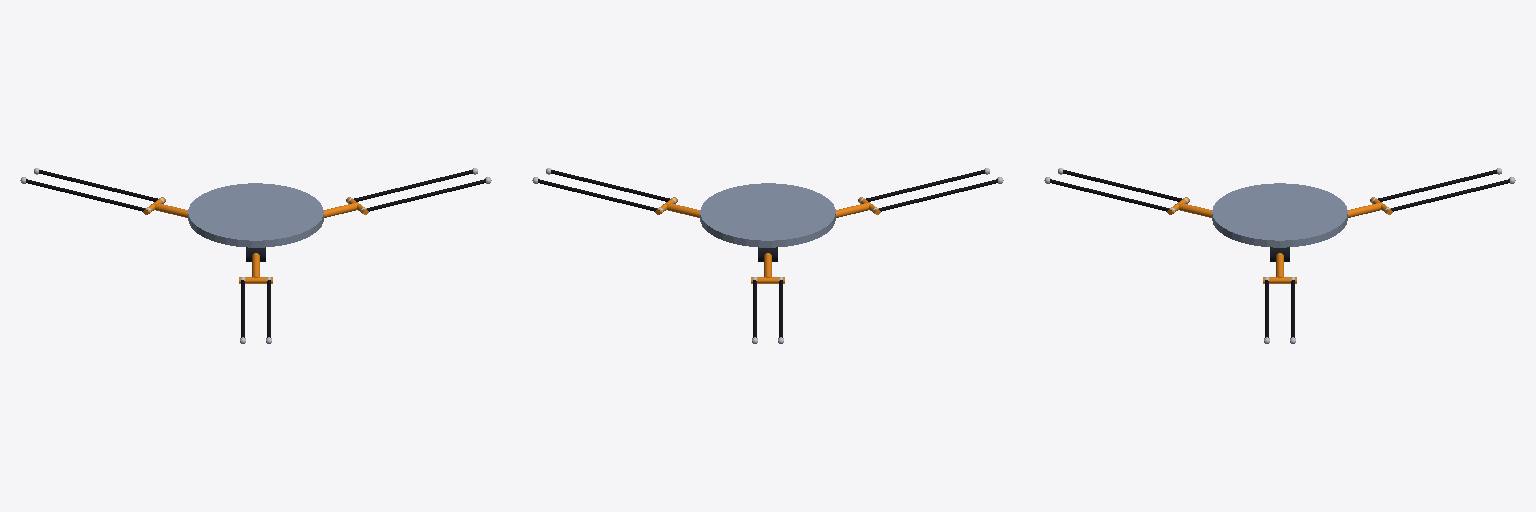
The robot description file, URDF, robot "delta_robot":
<?xml version="1.0"?>
<!-- generated by deltarobot.urdf — R=0.08 r=0.03 L=0.1 l=0.22 w=0.04 motor=rc_servo_mg996r tool=suction_20 -->
<robot name="delta_robot">
  <material name="frame"><color rgba="0.55 0.6 0.68 1"/></material>
  <material name="motor"><color rgba="0.15 0.17 0.2 1"/></material>
  <material name="arm"><color rgba="0.9 0.55 0.15 1"/></material>
  <material name="rod"><color rgba="0.12 0.12 0.14 1"/></material>
  <material name="joint"><color rgba="0.75 0.78 0.82 1"/></material>
  <material name="plate"><color rgba="0.25 0.55 0.9 1"/></material>
  <material name="tool"><color rgba="0.2 0.75 0.5 1"/></material>
  <link name="base_link">
    <visual>
      <origin xyz="0 0 0.026" rpy="0 0 0"/>
      <geometry><cylinder radius="0.1044" length="0.012"/></geometry>
      <material name="frame"/>
    </visual>
    <visual>
      <origin xyz="0.08 0 0" rpy="1.570796 0 0"/>
      <geometry><cylinder radius="0.0144" length="0.03"/></geometry>
      <material name="motor"/>
    </visual>
    <visual>
      <origin xyz="-0.04 0.069282 0" rpy="1.570796 0 2.094395"/>
      <geometry><cylinder radius="0.0144" length="0.03"/></geometry>
      <material name="motor"/>
    </visual>
    <visual>
      <origin xyz="-0.04 -0.069282 0" rpy="1.570796 0 4.18879"/>
      <geometry><cylinder radius="0.0144" length="0.03"/></geometry>
      <material name="motor"/>
    </visual>
    <inertial>
      <origin xyz="0 0 0.02" rpy="0 0 0"/>
      <mass value="0.665"/>
      <inertia ixx="0.01" ixy="0" ixz="0" iyy="0.01" iyz="0" izz="0.02"/>
    </inertial>
  </link>
  <joint name="motor1_joint" type="revolute">
    <parent link="base_link"/>
    <child link="upper_arm1"/>
    <origin xyz="0.08 0 0" rpy="0 0 0"/>
    <axis xyz="0 1 0"/>
    <limit lower="-0.7" upper="1.5" effort="1.08" velocity="6"/>
  </joint>
  <link name="upper_arm1">
    <visual>
      <origin xyz="0.05 0 0" rpy="0 1.570796 0"/>
      <geometry><cylinder radius="0.006" length="0.1"/></geometry>
      <material name="arm"/>
    </visual>
    <visual>
      <origin xyz="0.1 0 0" rpy="1.570796 0 0"/>
      <geometry><cylinder radius="0.0048" length="0.052"/></geometry>
      <material name="arm"/>
    </visual>
    <inertial>
      <origin xyz="0.05 0 0" rpy="0 0 0"/>
      <mass value="0.04572"/>
      <inertia ixx="0.00001" ixy="0" ixz="0" iyy="0.000027" iyz="0" izz="0.000027"/>
    </inertial>
  </link>
  <joint name="elbow1a_pitch" type="revolute">
    <parent link="upper_arm1"/>
    <child link="elbow1a_link"/>
    <origin xyz="0.1 0.02 0" rpy="0 0 0"/>
    <axis xyz="0 1 0"/>
    <limit lower="-3.141593" upper="3.141593" effort="0" velocity="0"/>
  </joint>
  <link name="elbow1a_link"/>
  <joint name="elbow1a_yaw" type="revolute">
    <parent link="elbow1a_link"/>
    <child link="forearm1a"/>
    <origin xyz="0 0 0" rpy="0 0 0"/>
    <axis xyz="0 0 1"/>
    <limit lower="-1.570796" upper="1.570796" effort="0" velocity="0"/>
  </joint>
  <link name="forearm1a">
    <visual>
      <origin xyz="0.11 0 0" rpy="0 1.570796 0"/>
      <geometry><cylinder radius="0.003" length="0.22"/></geometry>
      <material name="rod"/>
    </visual>
    <visual>
      <origin xyz="0 0 0" rpy="0 0 0"/>
      <geometry><sphere radius="0.0054"/></geometry>
      <material name="joint"/>
    </visual>
    <visual>
      <origin xyz="0.22 0 0" rpy="0 0 0"/>
      <geometry><sphere radius="0.0054"/></geometry>
      <material name="joint"/>
    </visual>
    <inertial>
      <origin xyz="0.11 0 0" rpy="0 0 0"/>
      <mass value="0.02846"/>
      <inertia ixx="0.000001" ixy="0" ixz="0" iyy="0.000115" iyz="0" izz="0.000115"/>
    </inertial>
  </link>
  <joint name="elbow1b_pitch" type="revolute">
    <parent link="upper_arm1"/>
    <child link="elbow1b_link"/>
    <origin xyz="0.1 -0.02 0" rpy="0 0 0"/>
    <axis xyz="0 1 0"/>
    <limit lower="-3.141593" upper="3.141593" effort="0" velocity="0"/>
    <mimic joint="elbow1a_pitch" multiplier="1" offset="0"/>
  </joint>
  <link name="elbow1b_link"/>
  <joint name="elbow1b_yaw" type="revolute">
    <parent link="elbow1b_link"/>
    <child link="forearm1b"/>
    <origin xyz="0 0 0" rpy="0 0 0"/>
    <axis xyz="0 0 1"/>
    <limit lower="-1.570796" upper="1.570796" effort="0" velocity="0"/>
    <mimic joint="elbow1a_yaw" multiplier="1" offset="0"/>
  </joint>
  <link name="forearm1b">
    <visual>
      <origin xyz="0.11 0 0" rpy="0 1.570796 0"/>
      <geometry><cylinder radius="0.003" length="0.22"/></geometry>
      <material name="rod"/>
    </visual>
    <visual>
      <origin xyz="0 0 0" rpy="0 0 0"/>
      <geometry><sphere radius="0.0054"/></geometry>
      <material name="joint"/>
    </visual>
    <visual>
      <origin xyz="0.22 0 0" rpy="0 0 0"/>
      <geometry><sphere radius="0.0054"/></geometry>
      <material name="joint"/>
    </visual>
    <inertial>
      <origin xyz="0.11 0 0" rpy="0 0 0"/>
      <mass value="0.02846"/>
      <inertia ixx="0.000001" ixy="0" ixz="0" iyy="0.000115" iyz="0" izz="0.000115"/>
    </inertial>
  </link>
  <joint name="motor2_joint" type="revolute">
    <parent link="base_link"/>
    <child link="upper_arm2"/>
    <origin xyz="-0.04 0.069282 0" rpy="0 0 2.094395"/>
    <axis xyz="0 1 0"/>
    <limit lower="-0.7" upper="1.5" effort="1.08" velocity="6"/>
  </joint>
  <link name="upper_arm2">
    <visual>
      <origin xyz="0.05 0 0" rpy="0 1.570796 0"/>
      <geometry><cylinder radius="0.006" length="0.1"/></geometry>
      <material name="arm"/>
    </visual>
    <visual>
      <origin xyz="0.1 0 0" rpy="1.570796 0 0"/>
      <geometry><cylinder radius="0.0048" length="0.052"/></geometry>
      <material name="arm"/>
    </visual>
    <inertial>
      <origin xyz="0.05 0 0" rpy="0 0 0"/>
      <mass value="0.04572"/>
      <inertia ixx="0.00001" ixy="0" ixz="0" iyy="0.000027" iyz="0" izz="0.000027"/>
    </inertial>
  </link>
  <joint name="elbow2a_pitch" type="revolute">
    <parent link="upper_arm2"/>
    <child link="elbow2a_link"/>
    <origin xyz="0.1 0.02 0" rpy="0 0 0"/>
    <axis xyz="0 1 0"/>
    <limit lower="-3.141593" upper="3.141593" effort="0" velocity="0"/>
  </joint>
  <link name="elbow2a_link"/>
  <joint name="elbow2a_yaw" type="revolute">
    <parent link="elbow2a_link"/>
    <child link="forearm2a"/>
    <origin xyz="0 0 0" rpy="0 0 0"/>
    <axis xyz="0 0 1"/>
    <limit lower="-1.570796" upper="1.570796" effort="0" velocity="0"/>
  </joint>
  <link name="forearm2a">
    <visual>
      <origin xyz="0.11 0 0" rpy="0 1.570796 0"/>
      <geometry><cylinder radius="0.003" length="0.22"/></geometry>
      <material name="rod"/>
    </visual>
    <visual>
      <origin xyz="0 0 0" rpy="0 0 0"/>
      <geometry><sphere radius="0.0054"/></geometry>
      <material name="joint"/>
    </visual>
    <visual>
      <origin xyz="0.22 0 0" rpy="0 0 0"/>
      <geometry><sphere radius="0.0054"/></geometry>
      <material name="joint"/>
    </visual>
    <inertial>
      <origin xyz="0.11 0 0" rpy="0 0 0"/>
      <mass value="0.02846"/>
      <inertia ixx="0.000001" ixy="0" ixz="0" iyy="0.000115" iyz="0" izz="0.000115"/>
    </inertial>
  </link>
  <joint name="elbow2b_pitch" type="revolute">
    <parent link="upper_arm2"/>
    <child link="elbow2b_link"/>
    <origin xyz="0.1 -0.02 0" rpy="0 0 0"/>
    <axis xyz="0 1 0"/>
    <limit lower="-3.141593" upper="3.141593" effort="0" velocity="0"/>
    <mimic joint="elbow2a_pitch" multiplier="1" offset="0"/>
  </joint>
  <link name="elbow2b_link"/>
  <joint name="elbow2b_yaw" type="revolute">
    <parent link="elbow2b_link"/>
    <child link="forearm2b"/>
    <origin xyz="0 0 0" rpy="0 0 0"/>
    <axis xyz="0 0 1"/>
    <limit lower="-1.570796" upper="1.570796" effort="0" velocity="0"/>
    <mimic joint="elbow2a_yaw" multiplier="1" offset="0"/>
  </joint>
  <link name="forearm2b">
    <visual>
      <origin xyz="0.11 0 0" rpy="0 1.570796 0"/>
      <geometry><cylinder radius="0.003" length="0.22"/></geometry>
      <material name="rod"/>
    </visual>
    <visual>
      <origin xyz="0 0 0" rpy="0 0 0"/>
      <geometry><sphere radius="0.0054"/></geometry>
      <material name="joint"/>
    </visual>
    <visual>
      <origin xyz="0.22 0 0" rpy="0 0 0"/>
      <geometry><sphere radius="0.0054"/></geometry>
      <material name="joint"/>
    </visual>
    <inertial>
      <origin xyz="0.11 0 0" rpy="0 0 0"/>
      <mass value="0.02846"/>
      <inertia ixx="0.000001" ixy="0" ixz="0" iyy="0.000115" iyz="0" izz="0.000115"/>
    </inertial>
  </link>
  <joint name="motor3_joint" type="revolute">
    <parent link="base_link"/>
    <child link="upper_arm3"/>
    <origin xyz="-0.04 -0.069282 0" rpy="0 0 4.18879"/>
    <axis xyz="0 1 0"/>
    <limit lower="-0.7" upper="1.5" effort="1.08" velocity="6"/>
  </joint>
  <link name="upper_arm3">
    <visual>
      <origin xyz="0.05 0 0" rpy="0 1.570796 0"/>
      <geometry><cylinder radius="0.006" length="0.1"/></geometry>
      <material name="arm"/>
    </visual>
    <visual>
      <origin xyz="0.1 0 0" rpy="1.570796 0 0"/>
      <geometry><cylinder radius="0.0048" length="0.052"/></geometry>
      <material name="arm"/>
    </visual>
    <inertial>
      <origin xyz="0.05 0 0" rpy="0 0 0"/>
      <mass value="0.04572"/>
      <inertia ixx="0.00001" ixy="0" ixz="0" iyy="0.000027" iyz="0" izz="0.000027"/>
    </inertial>
  </link>
  <joint name="elbow3a_pitch" type="revolute">
    <parent link="upper_arm3"/>
    <child link="elbow3a_link"/>
    <origin xyz="0.1 0.02 0" rpy="0 0 0"/>
    <axis xyz="0 1 0"/>
    <limit lower="-3.141593" upper="3.141593" effort="0" velocity="0"/>
  </joint>
  <link name="elbow3a_link"/>
  <joint name="elbow3a_yaw" type="revolute">
    <parent link="elbow3a_link"/>
    <child link="forearm3a"/>
    <origin xyz="0 0 0" rpy="0 0 0"/>
    <axis xyz="0 0 1"/>
    <limit lower="-1.570796" upper="1.570796" effort="0" velocity="0"/>
  </joint>
  <link name="forearm3a">
    <visual>
      <origin xyz="0.11 0 0" rpy="0 1.570796 0"/>
      <geometry><cylinder radius="0.003" length="0.22"/></geometry>
      <material name="rod"/>
    </visual>
    <visual>
      <origin xyz="0 0 0" rpy="0 0 0"/>
      <geometry><sphere radius="0.0054"/></geometry>
      <material name="joint"/>
    </visual>
    <visual>
      <origin xyz="0.22 0 0" rpy="0 0 0"/>
      <geometry><sphere radius="0.0054"/></geometry>
      <material name="joint"/>
    </visual>
    <inertial>
      <origin xyz="0.11 0 0" rpy="0 0 0"/>
      <mass value="0.02846"/>
      <inertia ixx="0.000001" ixy="0" ixz="0" iyy="0.000115" iyz="0" izz="0.000115"/>
    </inertial>
  </link>
  <joint name="elbow3b_pitch" type="revolute">
    <parent link="upper_arm3"/>
    <child link="elbow3b_link"/>
    <origin xyz="0.1 -0.02 0" rpy="0 0 0"/>
    <axis xyz="0 1 0"/>
    <limit lower="-3.141593" upper="3.141593" effort="0" velocity="0"/>
    <mimic joint="elbow3a_pitch" multiplier="1" offset="0"/>
  </joint>
  <link name="elbow3b_link"/>
  <joint name="elbow3b_yaw" type="revolute">
    <parent link="elbow3b_link"/>
    <child link="forearm3b"/>
    <origin xyz="0 0 0" rpy="0 0 0"/>
    <axis xyz="0 0 1"/>
    <limit lower="-1.570796" upper="1.570796" effort="0" velocity="0"/>
    <mimic joint="elbow3a_yaw" multiplier="1" offset="0"/>
  </joint>
  <link name="forearm3b">
    <visual>
      <origin xyz="0.11 0 0" rpy="0 1.570796 0"/>
      <geometry><cylinder radius="0.003" length="0.22"/></geometry>
      <material name="rod"/>
    </visual>
    <visual>
      <origin xyz="0 0 0" rpy="0 0 0"/>
      <geometry><sphere radius="0.0054"/></geometry>
      <material name="joint"/>
    </visual>
    <visual>
      <origin xyz="0.22 0 0" rpy="0 0 0"/>
      <geometry><sphere radius="0.0054"/></geometry>
      <material name="joint"/>
    </visual>
    <inertial>
      <origin xyz="0.11 0 0" rpy="0 0 0"/>
      <mass value="0.02846"/>
      <inertia ixx="0.000001" ixy="0" ixz="0" iyy="0.000115" iyz="0" izz="0.000115"/>
    </inertial>
  </link>
  <joint name="effector_x" type="prismatic">
    <parent link="base_link"/>
    <child link="effector_x_link"/>
    <origin xyz="0 0 0" rpy="0 0 0"/>
    <axis xyz="1 0 0"/>
    <limit lower="-0.37" upper="0.37" effort="0" velocity="0"/>
  </joint>
  <link name="effector_x_link"/>
  <joint name="effector_y" type="prismatic">
    <parent link="effector_x_link"/>
    <child link="effector_y_link"/>
    <origin xyz="0 0 0" rpy="0 0 0"/>
    <axis xyz="0 1 0"/>
    <limit lower="-0.37" upper="0.37" effort="0" velocity="0"/>
  </joint>
  <link name="effector_y_link"/>
  <joint name="effector_z" type="prismatic">
    <parent link="effector_y_link"/>
    <child link="effector"/>
    <origin xyz="0 0 0" rpy="0 0 0"/>
    <axis xyz="0 0 1"/>
    <limit lower="-0.32" upper="0" effort="0" velocity="0"/>
  </joint>
  <link name="effector">
    <visual>
      <origin xyz="0 0 0" rpy="0 0 0"/>
      <geometry><cylinder radius="0.042" length="0.01"/></geometry>
      <material name="plate"/>
    </visual>
    <inertial>
      <origin xyz="0 0 0" rpy="0 0 0"/>
      <mass value="0.04"/>
      <inertia ixx="0.0001" ixy="0" ixz="0" iyy="0.0001" iyz="0" izz="0.0002"/>
    </inertial>
  </link>
  <joint name="tool_joint" type="fixed">
    <parent link="effector"/>
    <child link="tool_link"/>
    <origin xyz="0 0 -0.005" rpy="0 0 0"/>
  </joint>
  <link name="tool_link">
    <visual>
      <origin xyz="0 0 -0.0185" rpy="0 0 0"/>
      <geometry><cylinder radius="0.006" length="0.037"/></geometry>
      <material name="tool"/>
    </visual>
    <visual>
      <origin xyz="0 0 -0.041" rpy="0 0 0"/>
      <geometry><cylinder radius="0.01" length="0.008"/></geometry>
      <material name="tool"/>
    </visual>
    <inertial>
      <origin xyz="0 0 -0.0225" rpy="0 0 0"/>
      <mass value="0.03"/>
      <inertia ixx="0.00001" ixy="0" ixz="0" iyy="0.00001" iyz="0" izz="0.00001"/>
    </inertial>
  </link>
  <joint name="tcp_joint" type="fixed">
    <parent link="tool_link"/>
    <child link="tcp"/>
    <origin xyz="0 0 -0.04" rpy="0 0 0"/>
  </joint>
  <link name="tcp"/>
</robot>

--- What the picture shows (computed from the rendered views, not written in the file) ---
3 views of the same robot in one strip: view 1: azimuth 30°, elevation 25°; view 2: azimuth 150°, elevation 25°; view 3: azimuth 270°, elevation 25° (orthographic).
Model delta_robot with 21 links and 20 joints (15 revolute, 3 prismatic, 2 fixed), rooted at base_link, posed every joint at zero.
Links seen in each view (by area): view 1: base_link; view 2: base_link; view 3: base_link.
Boxes of the visible links, bbox=[...] form: base_link: bbox=[188, 183, 323, 261]; base_link: bbox=[700, 183, 835, 261]; base_link: bbox=[1212, 183, 1347, 261].
Size in the robot's own frame: 0.6281 by 0.7236 by 0.082 metres.
Geometry: primitives only (box / cylinder / sphere), no mesh files.
